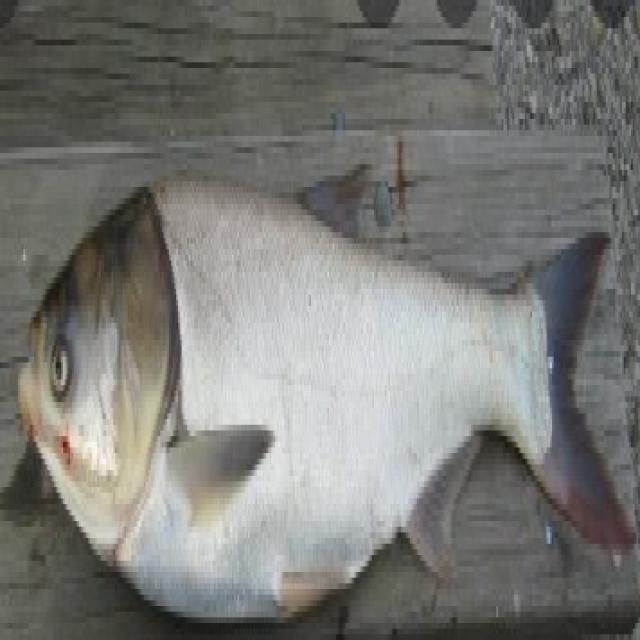Big-Head-Carp: (4, 30, 638, 640)
